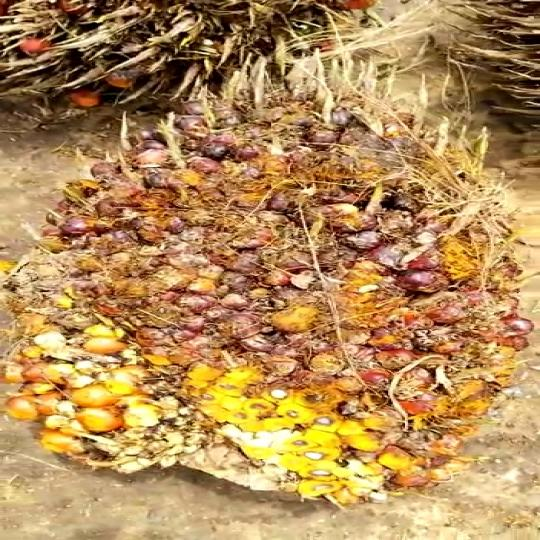masak: (16, 97, 532, 510)
